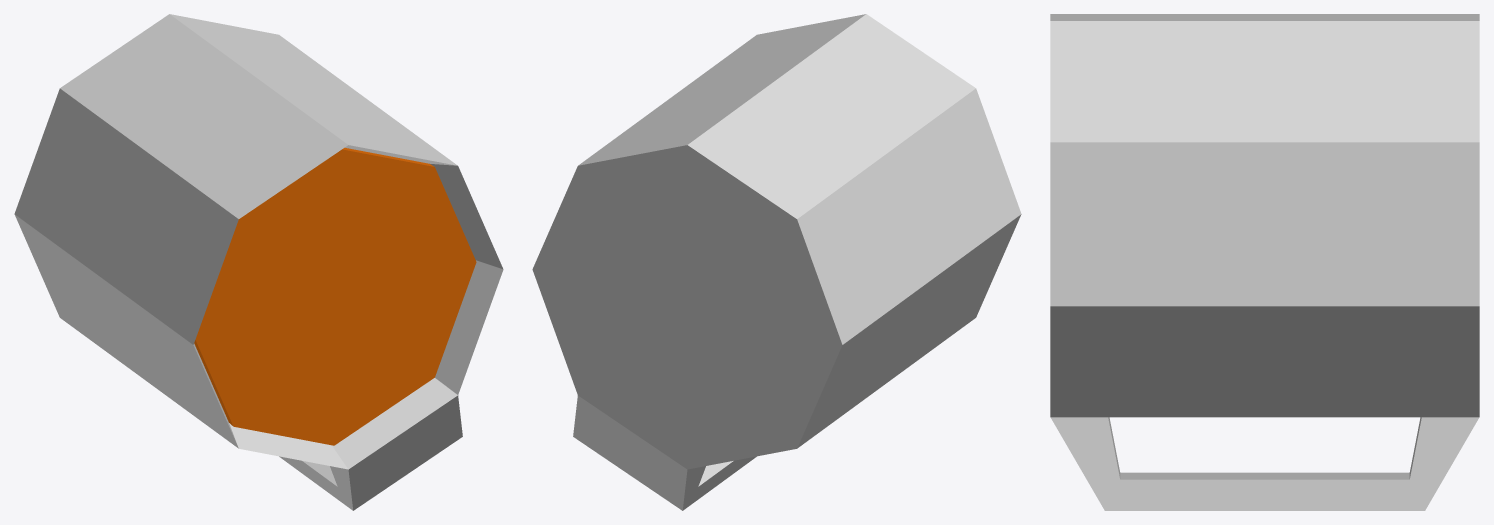
Rendered from beer.fbx.
The picture shows the model from 3 angles, left to right: view 1: azimuth 30°, elevation 25°; view 2: azimuth 150°, elevation 25°; view 3: azimuth 270°, elevation 25°; orthographic projection. The views are drawn at different scales.
Parts seen in each view (by area): view 1: Cylinder; view 2: Cylinder; view 3: Cylinder.
Part boxes in pixels (left/top/right/bottom): Cylinder: left=14, top=14, right=503, bottom=510; Cylinder: left=532, top=14, right=1021, bottom=510; Cylinder: left=1050, top=14, right=1479, bottom=510.
Size of the model in its own units: 256 by 256 by 308.
